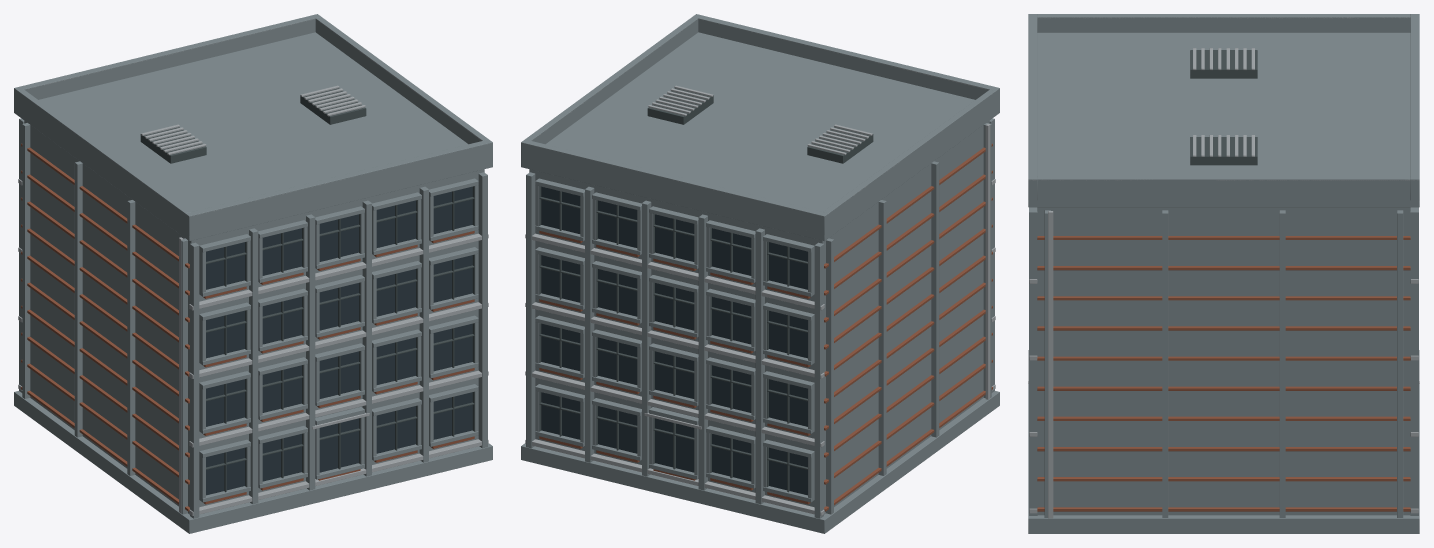
File: SM_StreetBlock_04.fbx
The picture shows the model from 3 angles, left to right: view 1: azimuth 30°, elevation 25°; view 2: azimuth 150°, elevation 25°; view 3: azimuth 270°, elevation 25°; orthographic projection. The views are drawn at different scales.
Parts seen in each view (by area): view 1: SM_StreetBlock_04; view 2: SM_StreetBlock_04; view 3: SM_StreetBlock_04.
Part boxes in pixels (x1,y1,x2,y2): SM_StreetBlock_04: (14,14,492,533); SM_StreetBlock_04: (521,14,999,533); SM_StreetBlock_04: (1028,14,1419,533).
Size of the model in its own units: 100 by 100 by 100.
